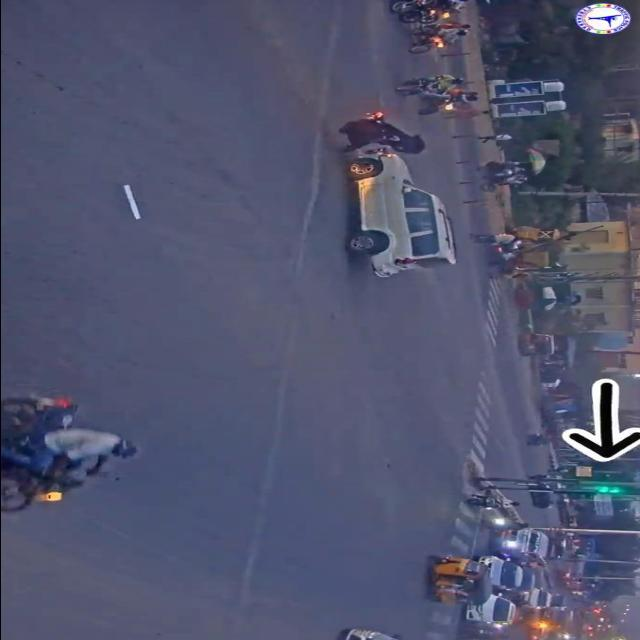accident: (335, 110, 461, 282)
non_accident: (416, 495, 548, 640), (380, 0, 480, 57), (390, 74, 488, 118)
